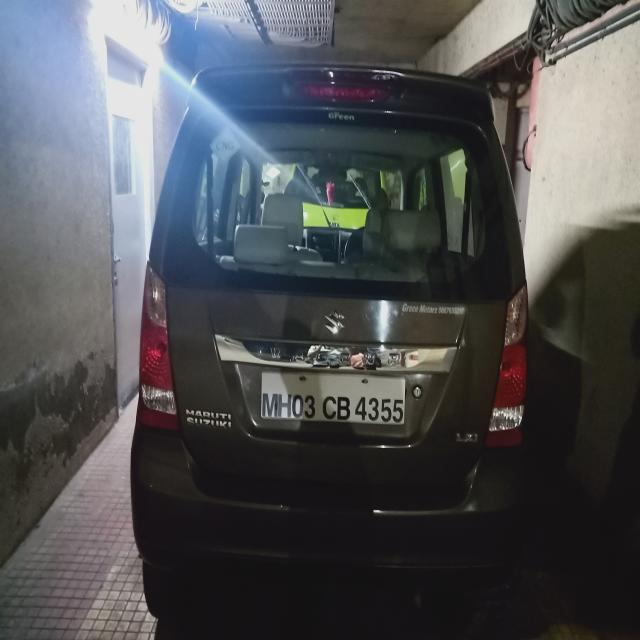Number-Plate: (261, 374, 406, 426)
